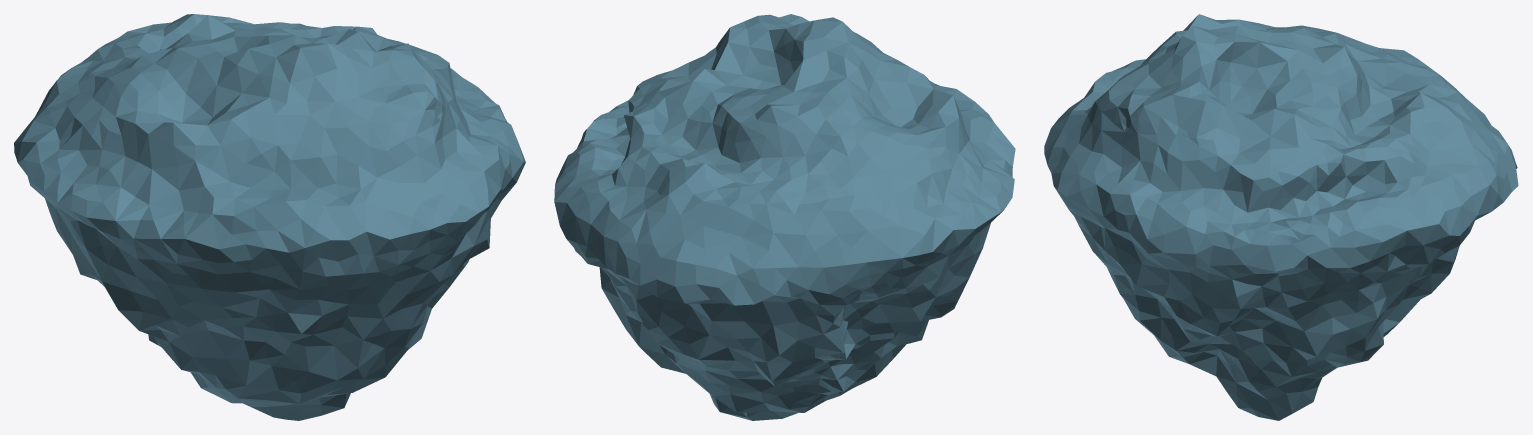
The model's file is IslandTest1.glb.
3 views of the same model, side by side, from view 1: azimuth 30°, elevation 25°; view 2: azimuth 150°, elevation 25°; view 3: azimuth 270°, elevation 25° (orthographic). The views are drawn at different scales.
Visible parts, largest first — view 1: Icosphere; view 2: Icosphere; view 3: Icosphere.
Boxes of the visible parts, bbox=[...] form: Icosphere: bbox=[14, 14, 525, 420]; Icosphere: bbox=[554, 14, 1015, 420]; Icosphere: bbox=[1044, 14, 1518, 420].
Size of the model in its own units: 21.61 by 19.31 by 22.66.
